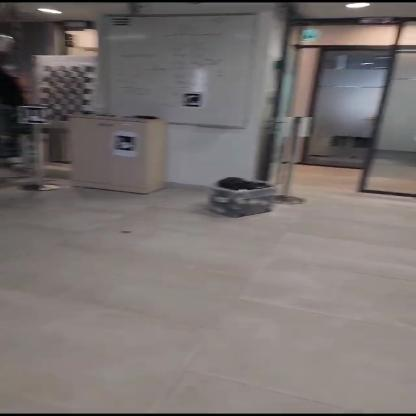open: (253, 30, 386, 203)
